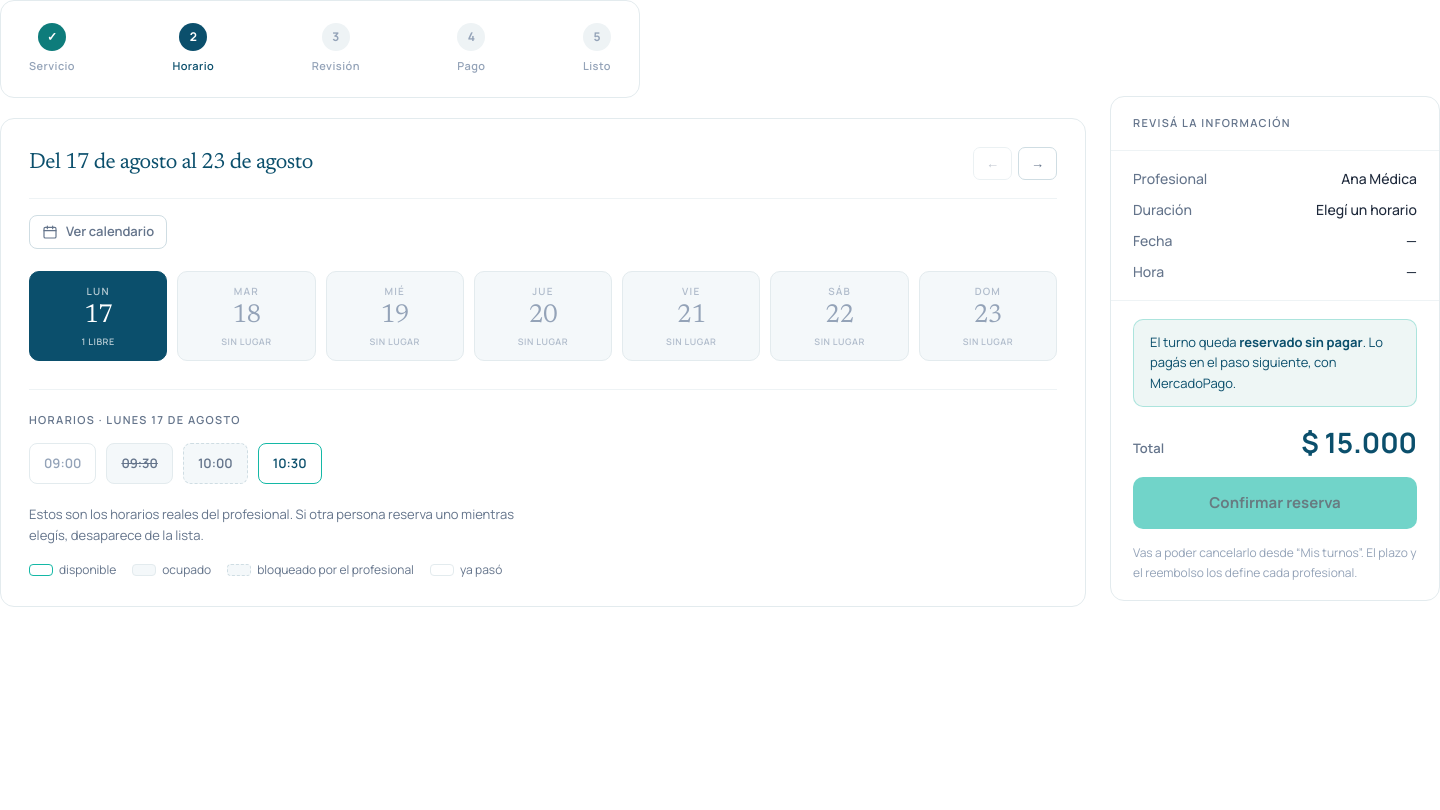
Scenario: BookAppointment › confirma la reserva y la muestra en la lista del paciente
Click the button labelled "10:30" at {"x": 290, "y": 463}, box [258, 442, 322, 484]
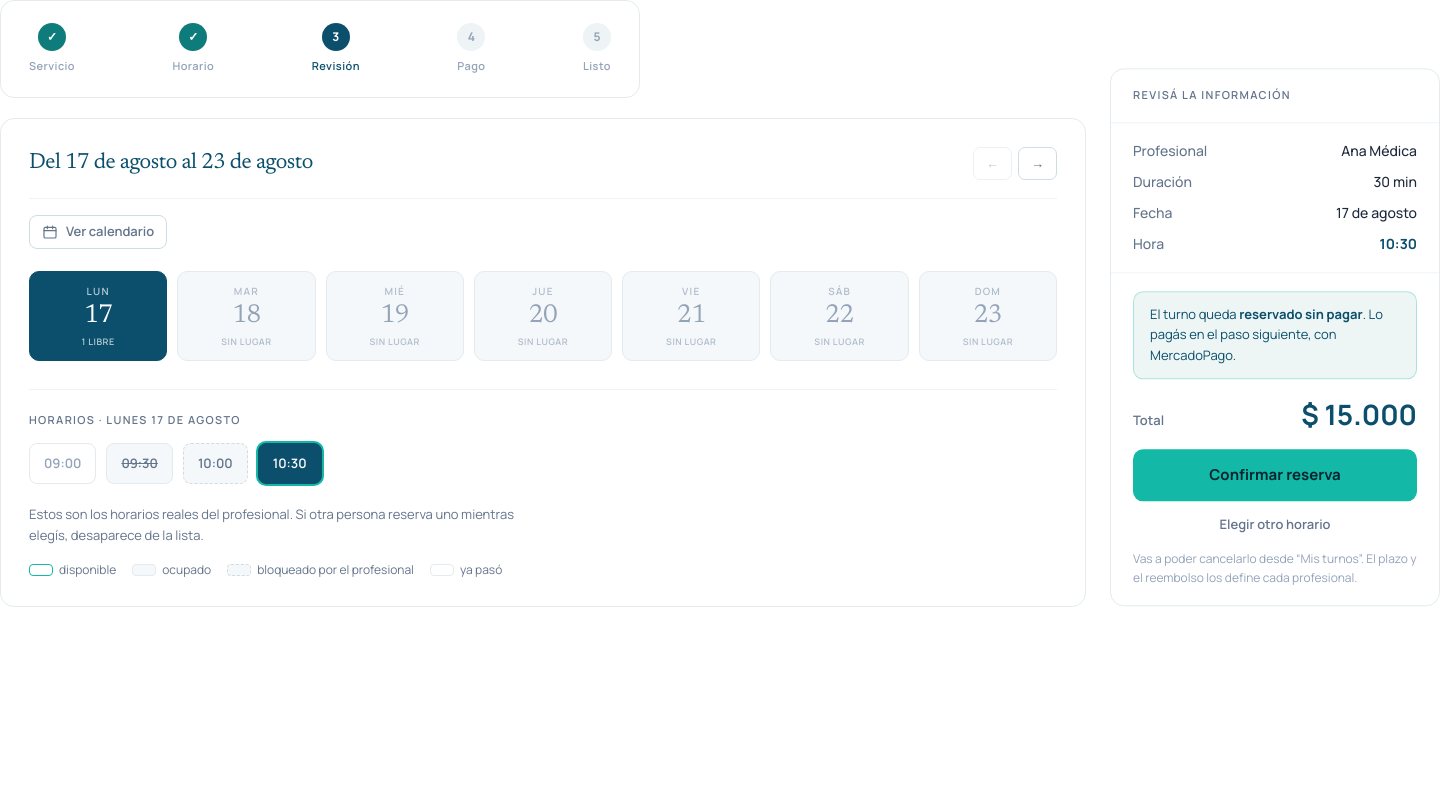
Click the button "Confirmar reserva" at {"x": 1275, "y": 475}, box [1133, 449, 1417, 502]
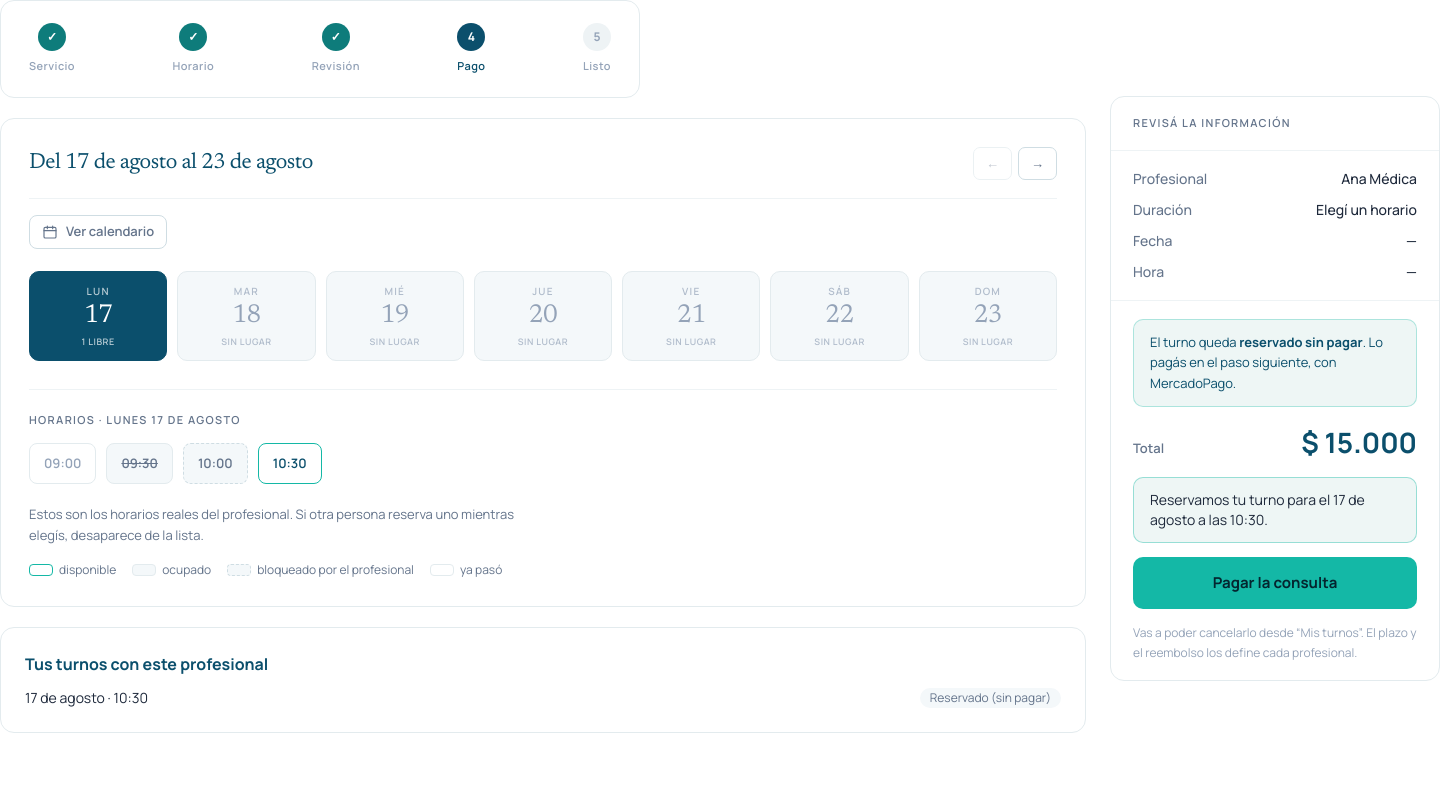
Now the text "Reservamos tu turno para el 17 de agosto a las 10:30." is shown, box [1133, 477, 1417, 543]
Now the text "17 de agosto · 10:30" is shown, box [25, 688, 148, 708]
Now the text "Reservado (sin pagar)" is shown, box [920, 688, 1061, 708]
